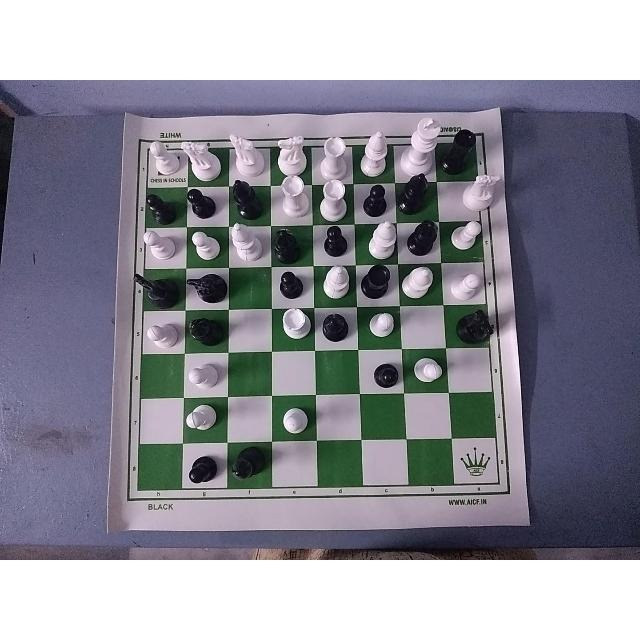black-bishop: (403, 213, 441, 264), (229, 441, 271, 486), (401, 172, 435, 215), (228, 178, 260, 217), (273, 228, 306, 264), (319, 308, 351, 343), (187, 312, 217, 346)
black-knight: (130, 269, 179, 310), (187, 270, 225, 310), (456, 311, 496, 345)
black-pawn: (362, 349, 401, 393), (183, 448, 221, 486), (316, 222, 352, 261), (272, 270, 308, 306), (362, 178, 392, 221), (142, 189, 176, 224), (184, 185, 218, 218)
black-rook: (441, 130, 484, 176)
white-bishop: (360, 257, 398, 299), (362, 128, 394, 174), (231, 223, 265, 265), (317, 263, 353, 297), (402, 265, 437, 299), (361, 221, 395, 254)
white-king: (397, 112, 440, 168)
white-knight: (183, 130, 223, 183), (267, 132, 313, 173), (453, 178, 500, 211), (228, 132, 263, 173)
white-pawn: (449, 260, 491, 301), (450, 216, 493, 255), (359, 303, 400, 342), (270, 402, 314, 438), (185, 222, 223, 263), (185, 356, 227, 393), (183, 397, 220, 439), (134, 225, 178, 260), (143, 315, 181, 355), (149, 129, 180, 178), (406, 353, 447, 389)
white-rook: (318, 129, 350, 178), (279, 173, 311, 221), (316, 181, 348, 222), (276, 308, 310, 344)
